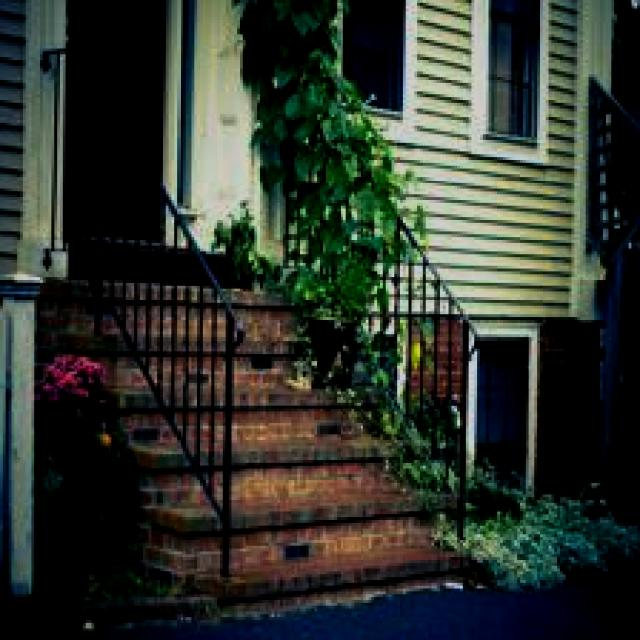upstair: (198, 433, 487, 593)
